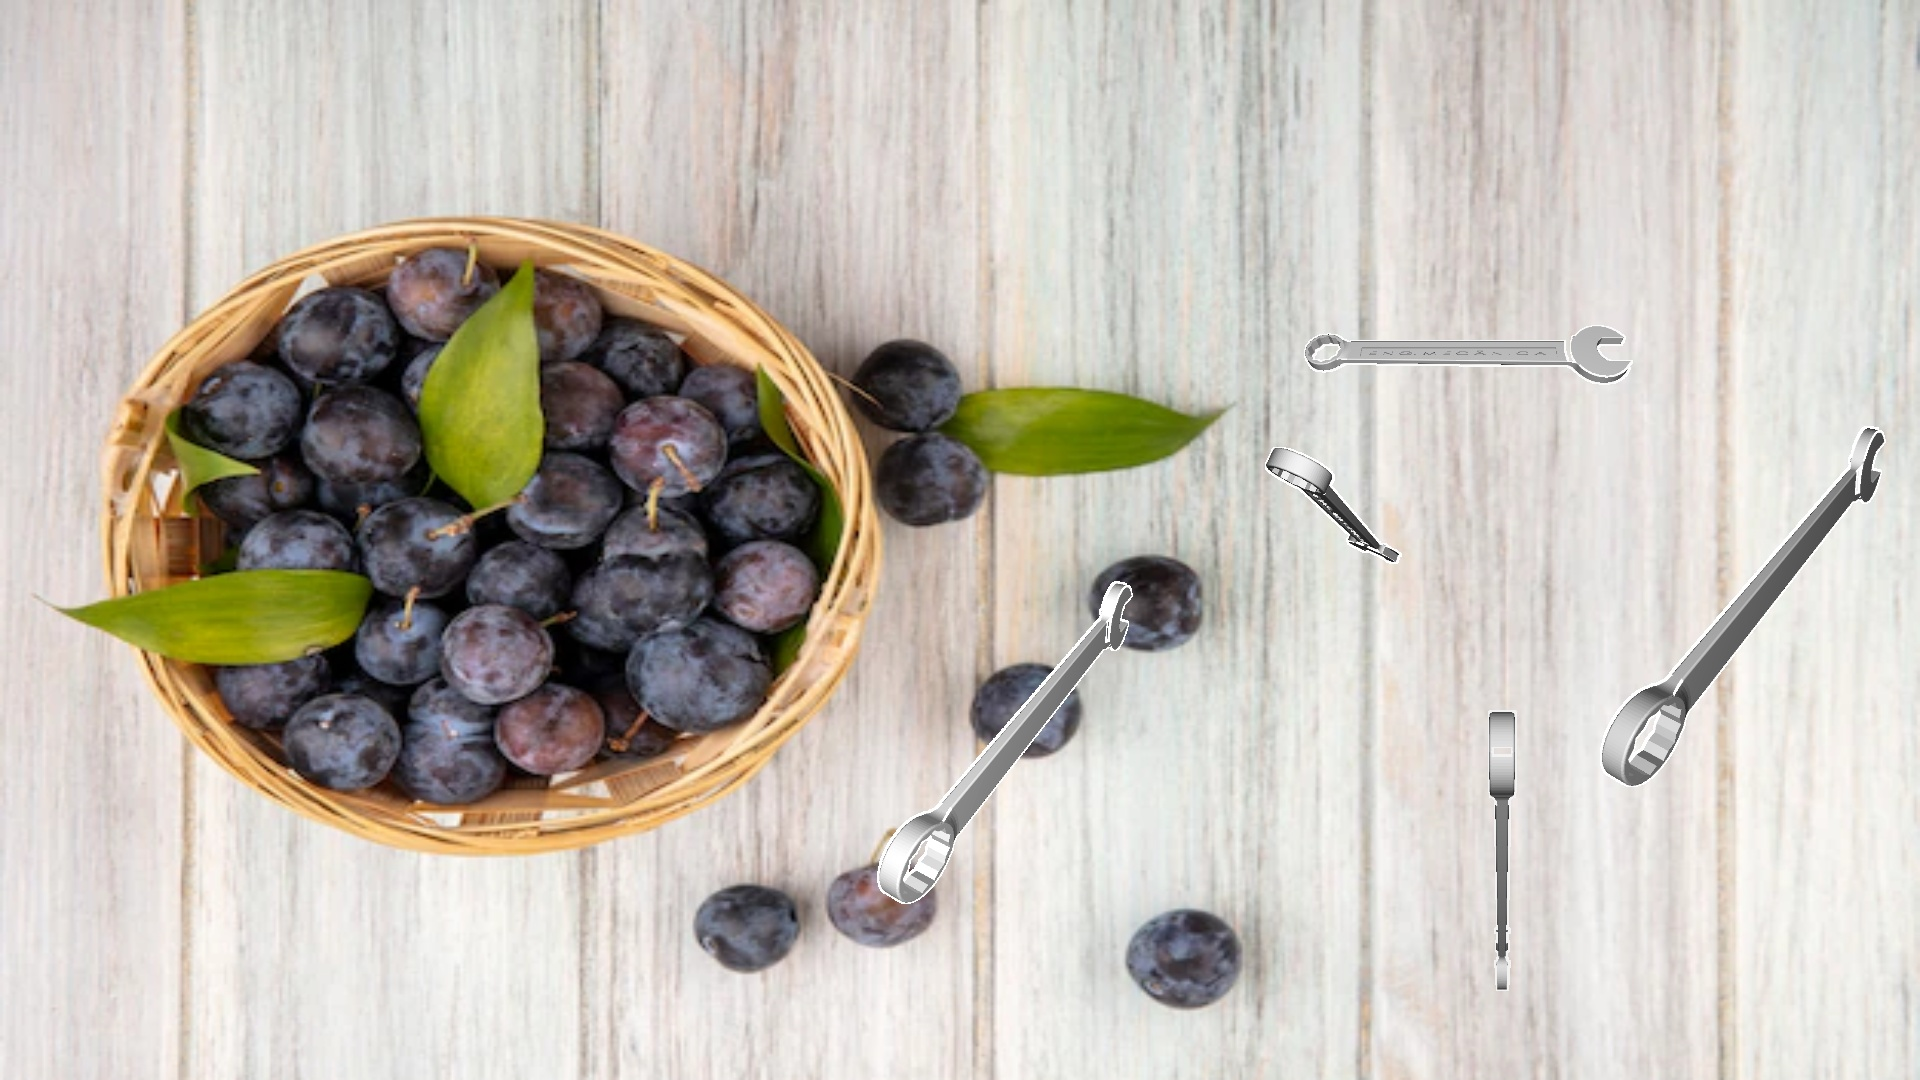Mixed Key: (1600, 426, 1884, 786), (877, 582, 1131, 903), (1304, 324, 1633, 384), (1265, 447, 1400, 563), (1487, 709, 1516, 990)
